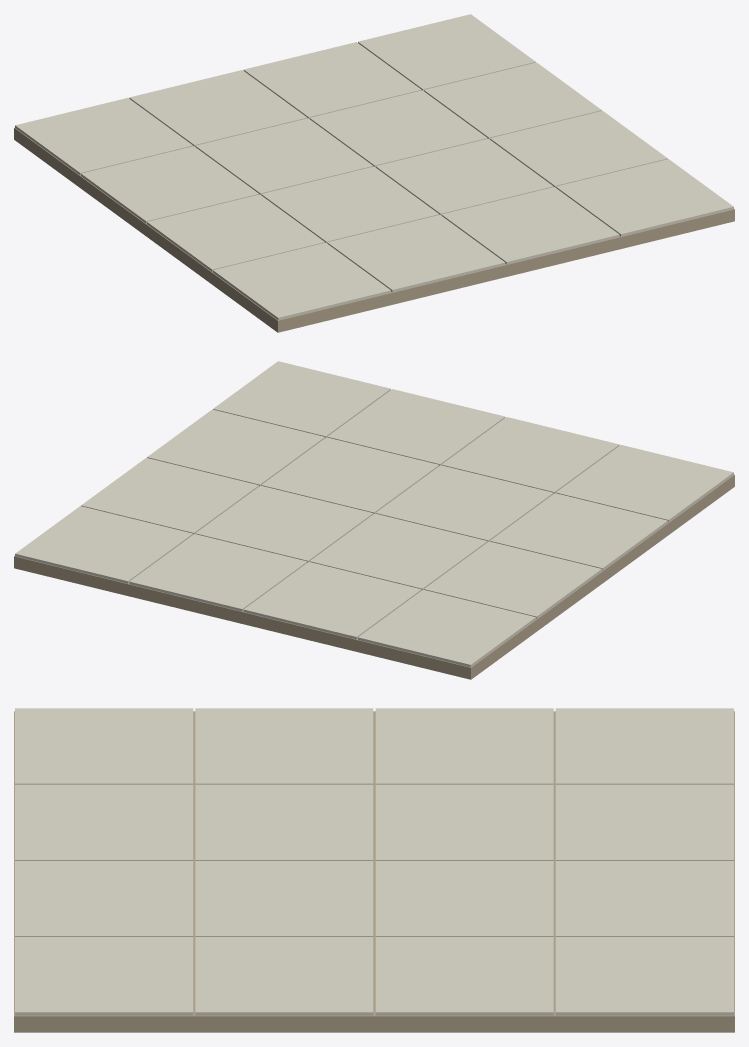
File: rooftop-pavers.glb
The picture shows the model from 3 angles, top to bottom: view 1: azimuth 30°, elevation 25°; view 2: azimuth 150°, elevation 25°; view 3: azimuth 270°, elevation 25°; orthographic projection. The views are drawn at different scales.
Parts seen in each view (by area): view 1: rooftop-pavers / Outdoor stone.001, rooftop-pavers / Grout.001; view 2: rooftop-pavers / Outdoor stone.001, rooftop-pavers / Grout.001; view 3: rooftop-pavers / Outdoor stone.001, rooftop-pavers / Grout.001.
Boxes of the visible parts, x1,y1,x2,y2 form: rooftop-pavers / Outdoor stone.001: (15, 14, 733, 320); rooftop-pavers / Grout.001: (14, 127, 734, 332); rooftop-pavers / Outdoor stone.001: (15, 361, 733, 667); rooftop-pavers / Grout.001: (14, 474, 734, 679); rooftop-pavers / Outdoor stone.001: (15, 708, 733, 1015); rooftop-pavers / Grout.001: (14, 711, 734, 1032).
Size of the model in its own units: 4 by 0.121 by 4.
